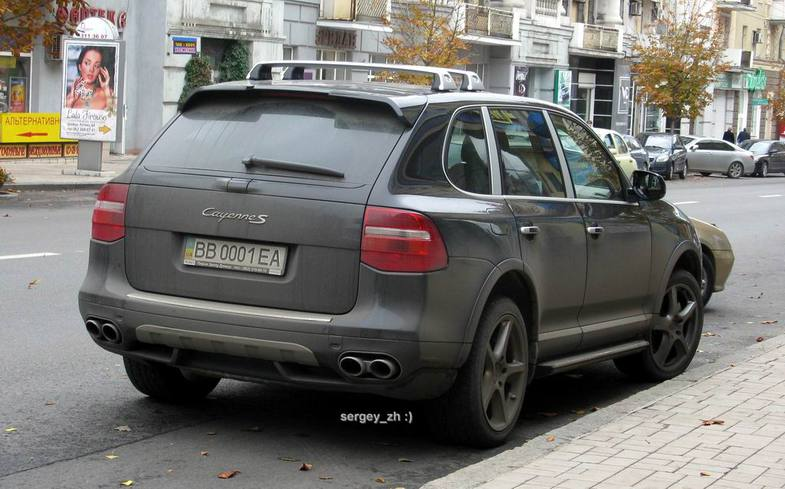car: (77, 60, 734, 447)
plate: (181, 236, 287, 276)
